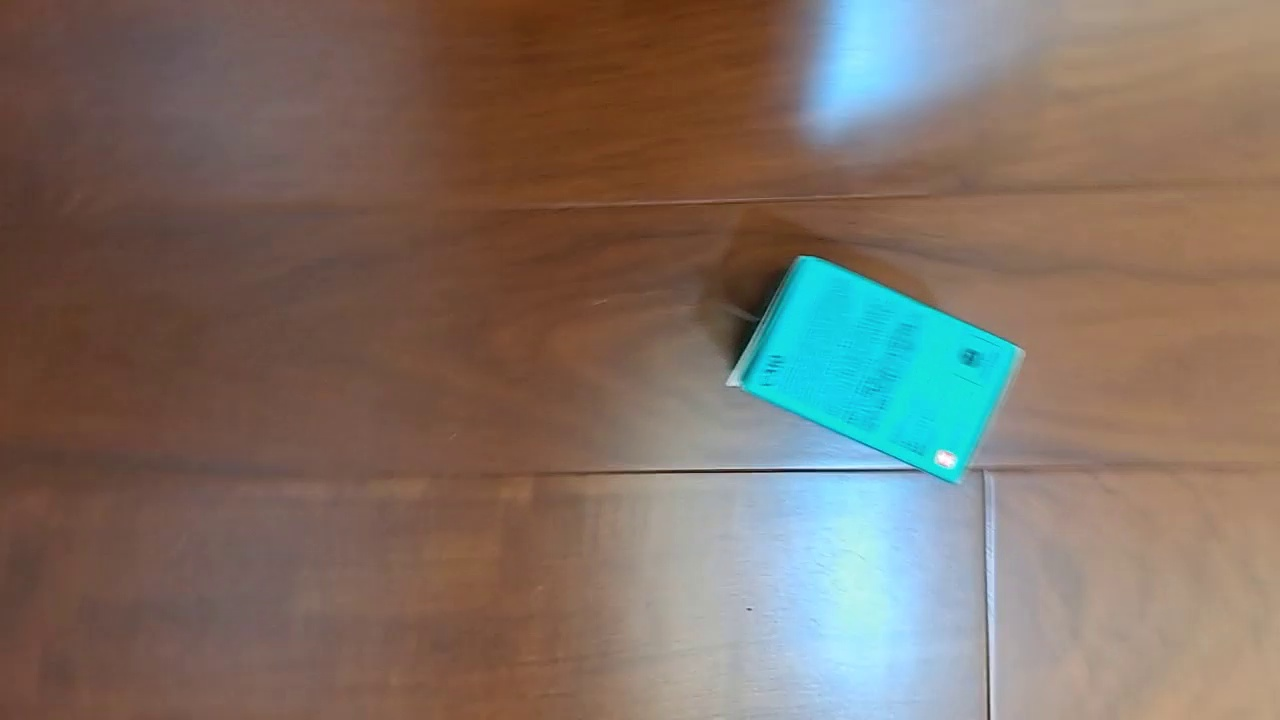webcam: (725, 255, 1026, 487)
